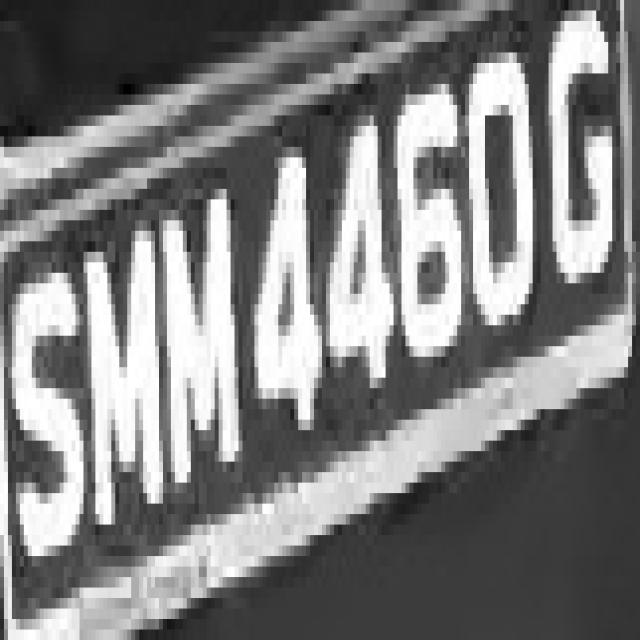0: (461, 11, 541, 367)
4: (306, 94, 402, 440), (239, 126, 318, 483)
6: (386, 74, 473, 398)
G: (541, 0, 628, 325)
M: (147, 178, 251, 514), (75, 210, 175, 535)
S: (0, 231, 91, 598)
